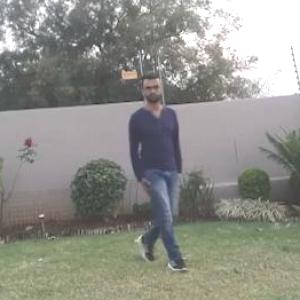follow: (114, 72, 181, 265)
